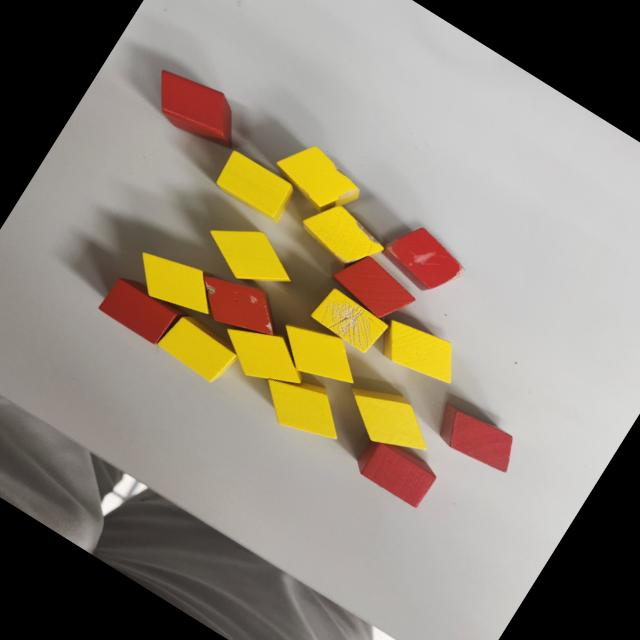broken: (139, 59, 249, 156), (264, 132, 370, 228), (186, 260, 288, 350), (374, 216, 474, 306), (294, 192, 392, 278), (309, 283, 392, 356)
red: (326, 246, 421, 328), (430, 398, 524, 478), (352, 432, 442, 509), (96, 273, 182, 348)
yellow: (332, 371, 443, 468), (195, 208, 305, 304), (212, 311, 318, 404), (250, 361, 354, 454), (266, 310, 368, 400), (123, 238, 224, 326), (372, 310, 468, 394), (212, 148, 300, 225), (153, 312, 240, 386)
